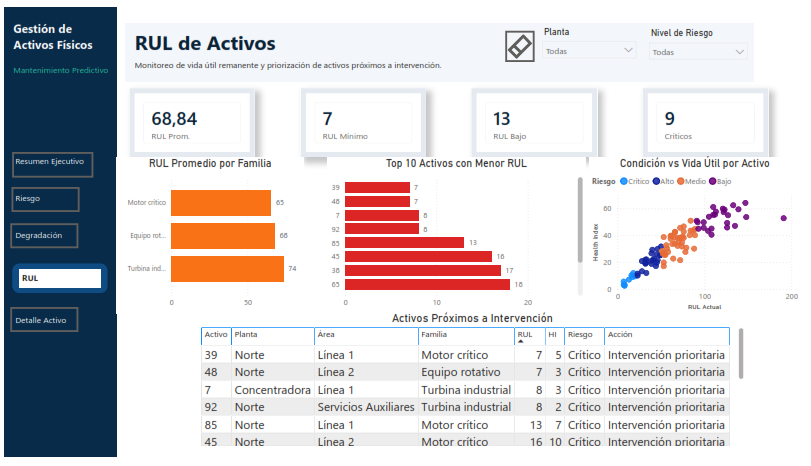

The page's visual inventory and layout, read from the dashboard file:
{"tool":"powerbi","page":{"name":"RUL","canvas":[1280,720],"ordinal":3},"visuals":[{"type":"shape","box":[0,0,180.3,719.7],"z":0},{"type":"textbox","box":[12.9,232.8,129.6,29.3],"z":0,"group":"g2"},{"type":"textbox","box":[12.9,291.4,130,30],"z":0,"group":"g3"},{"type":"textbox","box":[12.9,351.2,129.6,29.3],"z":0,"group":"g4"},{"type":"shape","box":[12.9,410.4,152.9,47.7],"z":0,"group":"g1"},{"type":"textbox","box":[12.9,486.7,132.1,29.3],"z":0,"group":"g5"},{"type":"textbox","box":[9.8,17.1,170,61.1],"z":1000},{"type":"textbox","box":[24.2,419.9,129.6,29.3],"z":1000,"group":"g1"},{"type":"textbox","box":[9.8,86.8,170,40.4],"z":2000},{"type":"group","id":"g1","title":"Grupo 1","box":[12.9,410.4,152.9,46.5],"z":3000},{"type":"group","id":"g2","title":"Grupo 1","box":[12.9,232.8,130,28.8],"z":4000},{"type":"group","id":"g3","title":"Grupo 1","box":[12.9,291.4,130,30],"z":5000},{"type":"group","id":"g4","title":"Grupo 1","box":[12.9,351.2,129.6,29.3],"z":6000},{"type":"group","id":"g5","title":"Grupo 1","box":[12.9,486.7,132.1,29.3],"z":7000},{"type":"shape","box":[194.3,27.1,1004.3,91.4],"z":8000},{"type":"textbox","box":[204.3,28.6,391.4,58.6],"z":9000},{"type":"textbox","box":[204.2,78.3,517.3,40.4],"z":10000},{"type":"slicer","fields":{"Values":["dim_engine.site"]},"box":[851,27.3,171.4,59.2],"z":11000},{"type":"slicer","fields":{"Values":["dim_engine.current_risk_level"]},"box":[1022.4,28.8,177.5,59.2],"z":12000},{"type":"cardVisual","fields":{"Data":["Medidas.RUL Promedio"]},"box":[201.4,129.8,200,110],"z":13000},{"type":"cardVisual","fields":{"Data":["Medidas.RUL Mínimo"]},"box":[474.6,129.8,200.5,110.1],"z":14000},{"type":"cardVisual","fields":{"Data":["Medidas.Activos RUL Bajo"]},"box":[748.4,129.8,200.5,110.1],"z":15000},{"type":"cardVisual","fields":{"Data":["Medidas.Activos Críticos"]},"box":[1022.2,130.3,201.1,110.1],"z":16000},{"type":"clusteredBarChart","title":"RUL Promedio por Familia","fields":{"Category":["dim_engine.asset_family"],"Y":["Medidas.RUL Promedio"]},"box":[179.6,240.4,300,250.5],"z":17000},{"type":"clusteredBarChart","title":"Top 10 Activos con Menor RUL","fields":{"Category":["dim_engine.engine_id"],"Y":["Medidas.RUL Mínimo"]},"box":[517.4,240.4,413.7,250.5],"z":18000},{"type":"scatterChart","title":"Condición vs Vida Útil por Activo","fields":{"X":["Medidas.RUL Actual"],"Y":["Medidas.Health Index Actual"],"Category":["dim_engine.engine_id"],"Series":["dim_engine.current_risk_level"]},"box":[936.2,240.4,339,250.5],"z":19000},{"type":"tableEx","title":"Activos Próximos a Intervención","fields":{"Values":["dim_engine.engine_id","dim_engine.Planta Visual","dim_engine.area","dim_engine.asset_family","dim_engine.current_rul","dim_engine.current_health_index","dim_engine.current_risk_level","dim_engine.current_recommended_action"]},"box":[309.9,487.1,879.2,220],"z":20000},{"type":"actionButton","box":[10.4,479.8,108.8,40.2],"z":21000},{"type":"actionButton","box":[10.4,345.7,108.8,40.2],"z":22000},{"type":"actionButton","box":[11.9,287.6,108.8,40.2],"z":23000},{"type":"actionButton","box":[13.4,232.5,129.6,40.2],"z":24000},{"type":"actionButton","box":[802.2,37.9,46.5,50.1],"z":25000}]}

Visuals, with their boxes on the page's 1280x720 design canvas (x1, y1, x2, y2). These are canvas units, not pixel positions in the 811x466 screenshot, which may show the page scaled, cropped or inside an application window:
shape: x1=0 y1=0 x2=180 y2=720
textbox: x1=13 y1=233 x2=142 y2=262
textbox: x1=13 y1=291 x2=143 y2=321
textbox: x1=13 y1=351 x2=142 y2=380
shape: x1=13 y1=410 x2=166 y2=458
textbox: x1=13 y1=487 x2=145 y2=516
textbox: x1=10 y1=17 x2=180 y2=78
textbox: x1=24 y1=420 x2=154 y2=449
textbox: x1=10 y1=87 x2=180 y2=127
"Grupo 1" group: x1=13 y1=410 x2=166 y2=457
"Grupo 1" group: x1=13 y1=233 x2=143 y2=262
"Grupo 1" group: x1=13 y1=291 x2=143 y2=321
"Grupo 1" group: x1=13 y1=351 x2=142 y2=380
"Grupo 1" group: x1=13 y1=487 x2=145 y2=516
shape: x1=194 y1=27 x2=1199 y2=118
textbox: x1=204 y1=29 x2=596 y2=87
textbox: x1=204 y1=78 x2=722 y2=119
slicer - dim_engine.site: x1=851 y1=27 x2=1022 y2=86
slicer - dim_engine.current_risk_level: x1=1022 y1=29 x2=1200 y2=88
cardVisual - Medidas.RUL Promedio: x1=201 y1=130 x2=401 y2=240
cardVisual - Medidas.RUL Mínimo: x1=475 y1=130 x2=675 y2=240
cardVisual - Medidas.Activos RUL Bajo: x1=748 y1=130 x2=949 y2=240
cardVisual - Medidas.Activos Críticos: x1=1022 y1=130 x2=1223 y2=240
"RUL Promedio por Familia" clusteredBarChart: x1=180 y1=240 x2=480 y2=491
"Top 10 Activos con Menor RUL" clusteredBarChart: x1=517 y1=240 x2=931 y2=491
"Condición vs Vida Útil por Activo" scatterChart: x1=936 y1=240 x2=1275 y2=491
"Activos Próximos a Intervención" tableEx: x1=310 y1=487 x2=1189 y2=707
actionButton: x1=10 y1=480 x2=119 y2=520
actionButton: x1=10 y1=346 x2=119 y2=386
actionButton: x1=12 y1=288 x2=121 y2=328
actionButton: x1=13 y1=232 x2=143 y2=273
actionButton: x1=802 y1=38 x2=849 y2=88
